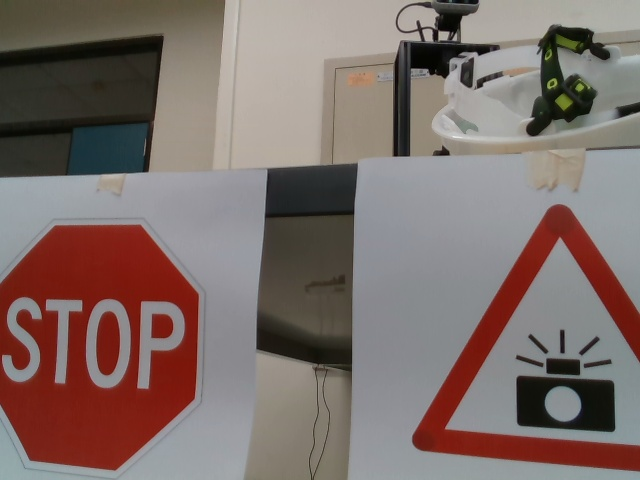camera: (411, 201, 640, 471)
helmet: (431, 22, 640, 151)
stop: (1, 218, 206, 475)
